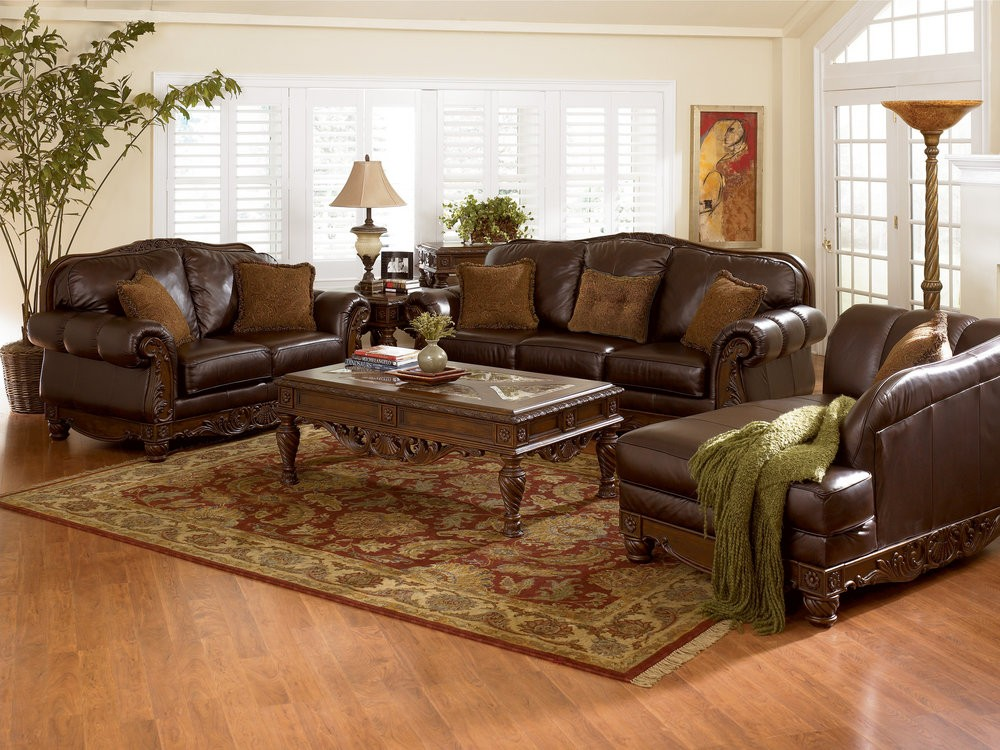chairs: (614, 297, 1000, 632), (10, 227, 384, 469), (422, 226, 822, 428)
